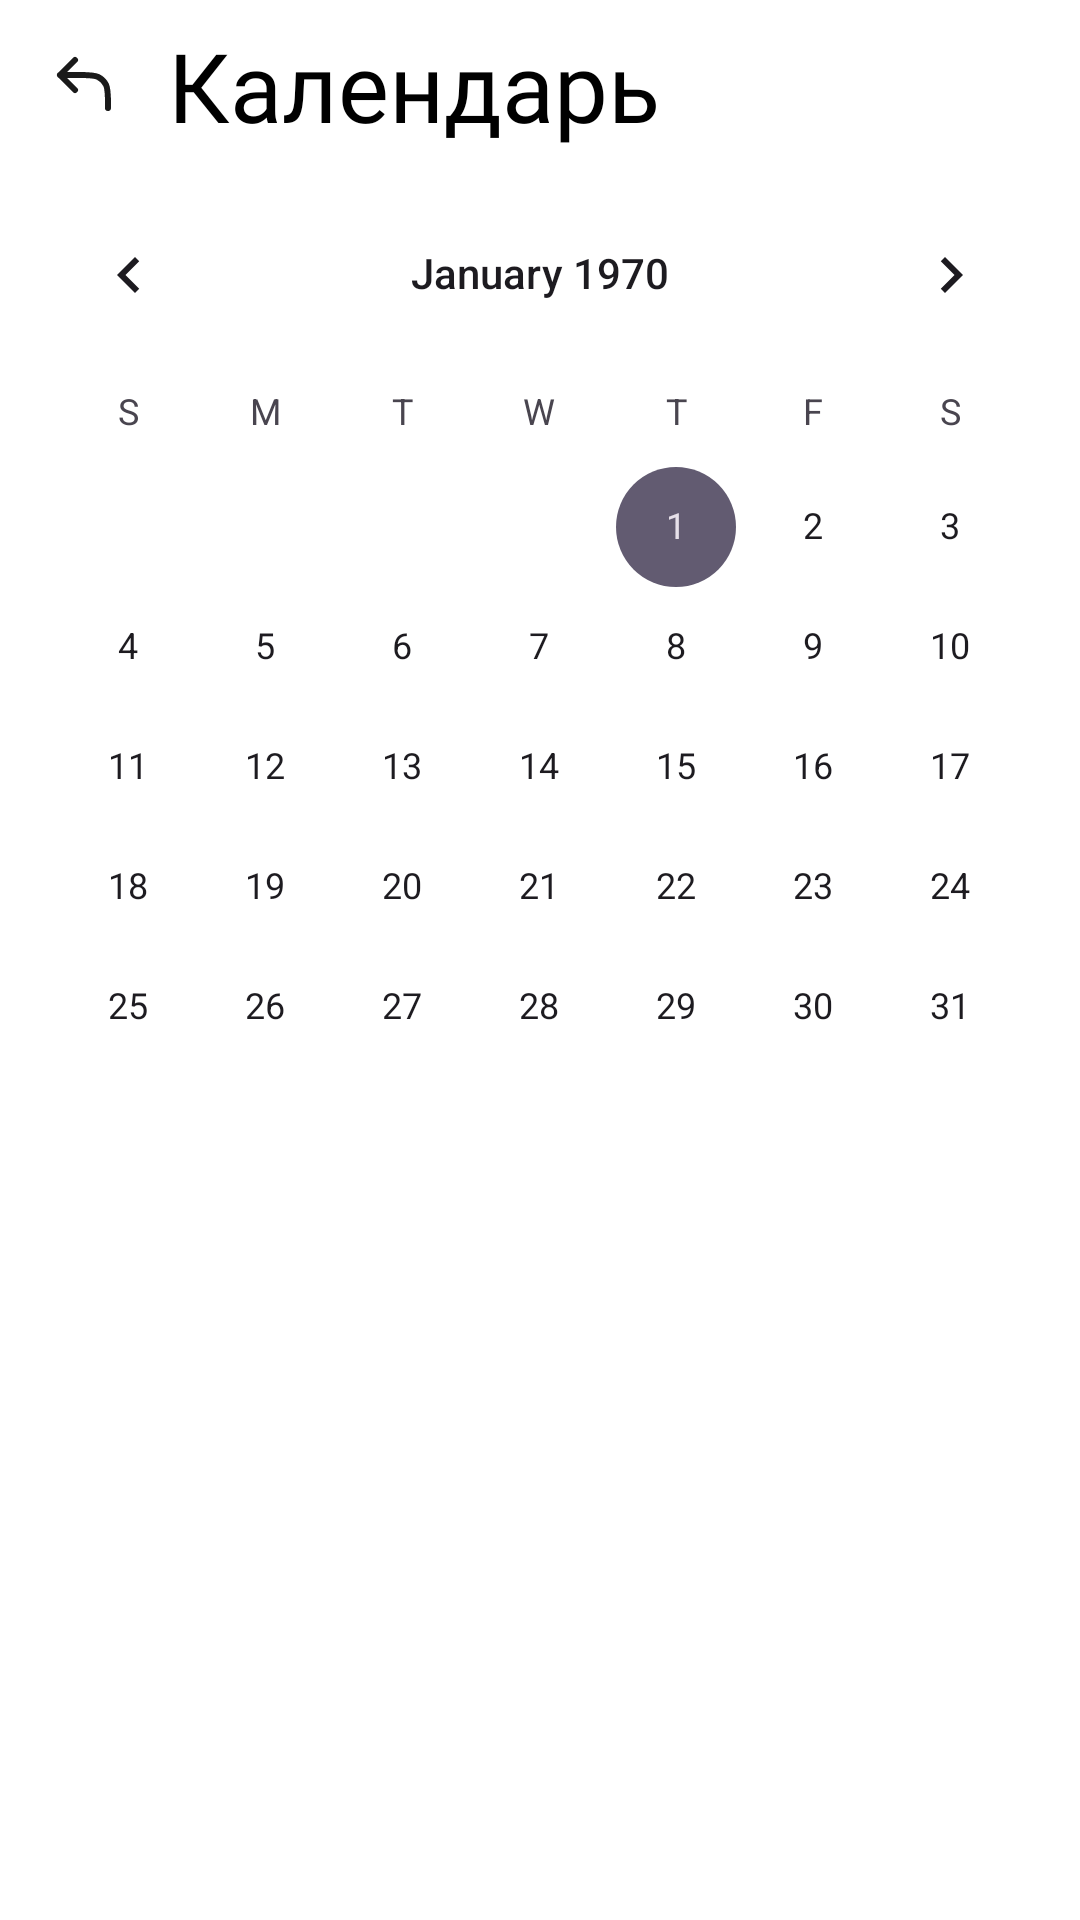

Icons on this 1080px×1920px Android screen, each with the point to tap as (x,y):
back: (84,84)
